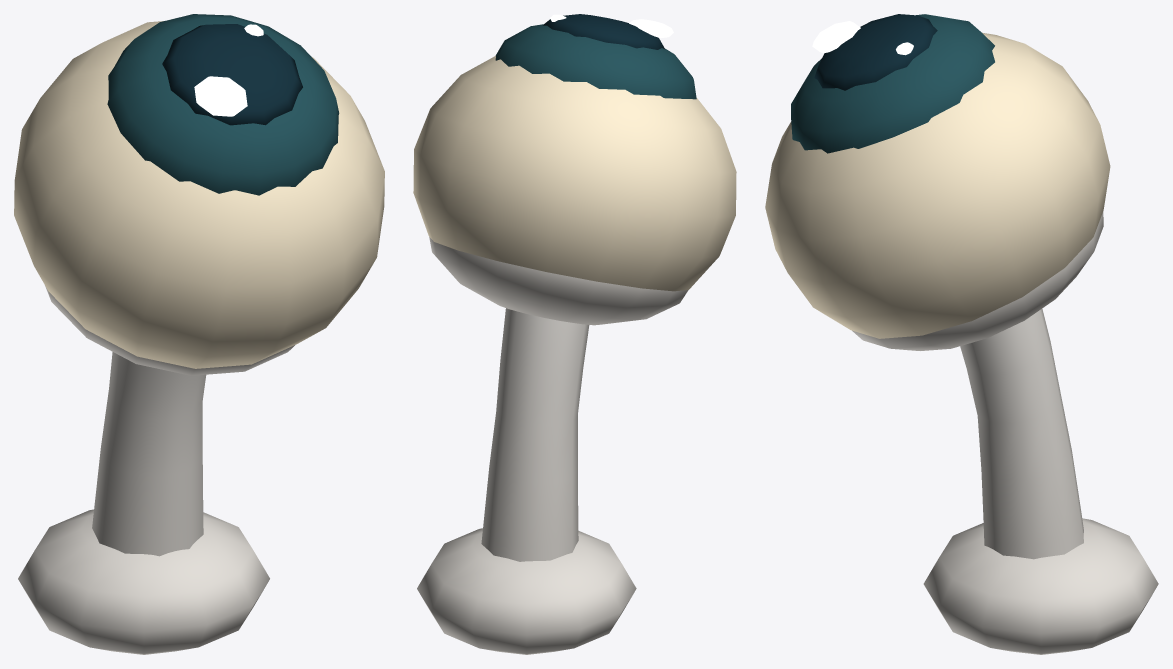
Rendered from part_eye_stalk.glb.
3 views of the same model, side by side, from view 1: azimuth 30°, elevation 25°; view 2: azimuth 150°, elevation 25°; view 3: azimuth 270°, elevation 25° (orthographic). The views are drawn at different scales.
Visible parts, largest first — view 1: part_eye_stalk_painted_mesh; view 2: part_eye_stalk_painted_mesh; view 3: part_eye_stalk_painted_mesh.
Part boxes in pixels (left/top/right/bottom): part_eye_stalk_painted_mesh: left=14, top=14, right=384, bottom=654; part_eye_stalk_painted_mesh: left=413, top=14, right=736, bottom=654; part_eye_stalk_painted_mesh: left=765, top=14, right=1158, bottom=654.
Bounding box in the file's own units: 0.48 × 0.9188 × 0.5353.
